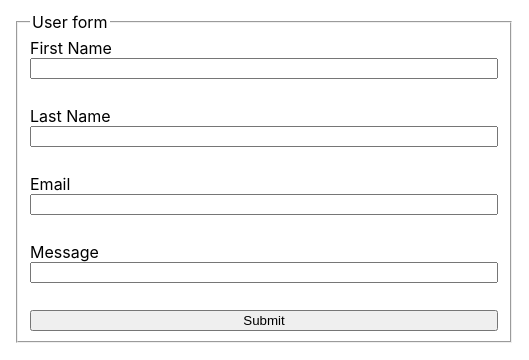
it: UserForm › should highlight error for invalid fields after submit button is pressed and for is invalid
Click the button with test id "submit-btn" at (264, 320), box [30,310,498,331]
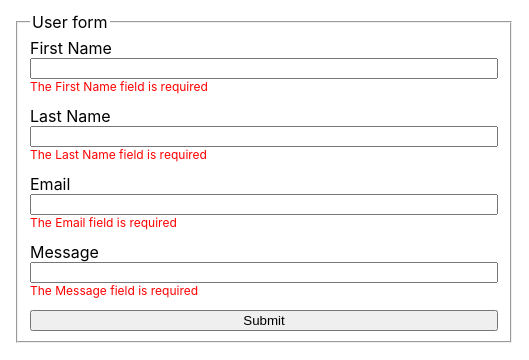
Result: the text with test id "firstName-error" reads "The First Name field is required" at [30,79,208,94]
Result: the element with test id "lastName-group" shows "The Last Name field is required" at [30,147,207,162]
Result: the element with test id "email-group" shows "The Email field is required" at [30,215,177,230]
